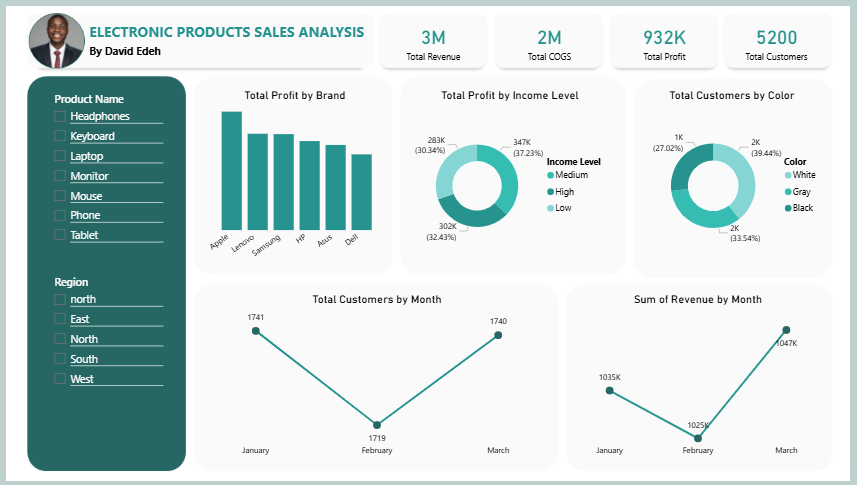

The page's visual inventory and layout, read from the dashboard file:
{"tool":"powerbi","page":{"name":"Page 1","canvas":[1280,720],"ordinal":0},"visuals":[{"type":"columnChart","fields":{"Category":["Products.Brand"],"Y":["Sales.Total Profit"]},"box":[300,124.2,275.8,277.3],"z":0},{"type":"donutChart","fields":{"Category":["Products.Color"],"Y":["Sales.Total Customers"]},"box":[959.1,124.2,281.8,277.3],"z":1000},{"type":"lineChart","fields":{"Category":["Sales.SaleDate.Variation.Date Hierarchy.Month"],"Y":["Sum(Sales.Revenue)"]},"box":[856.1,433.3,384.8,257.6],"z":2000},{"type":"lineChart","fields":{"Category":["Sales.SaleDate.Variation.Date Hierarchy.Month"],"Y":["Sales.Total Customers"]},"box":[300,433.3,524.2,257.6],"z":3000},{"type":"donutChart","fields":{"Category":["Customers.Income Level"],"Y":["Sales.Total Profit"]},"box":[603,124.2,321.2,277.3],"z":4000},{"type":"slicer","fields":{"Values":["Products.Product Name"]},"box":[60.6,124.2,183.3,253],"z":5000},{"type":"slicer","fields":{"Values":["Customers.Region"]},"box":[60.6,401.5,183.3,187.9],"z":6000},{"type":"textbox","box":[121.2,19.7,440.9,47],"z":7000},{"type":"textbox","box":[121.2,51.5,300,36.4],"z":8000},{"type":"card","fields":{"Values":["Sum(Sales.Revenue)"]},"box":[577.3,19.7,140.9,68.2],"z":9000},{"type":"card","fields":{"Values":["Sum(Sales.COGS)"]},"box":[753,19.7,140.9,68.2],"z":10000},{"type":"card","fields":{"Values":["Sales.Total Profit"]},"box":[927.3,19.7,140.9,68.2],"z":11000},{"type":"card","fields":{"Values":["Sales.Total Customers"]},"box":[1097,19.7,140.9,68.2],"z":12000}]}

Visuals, with their boxes in screenshot pixels (x1, y1, x2, y2), scaled from the page's 1280x720 canvas onto the 857x485 screenshot:
columnChart - Products.Brand x Sales.Total Profit: (201,84,386,270)
donutChart - Products.Color x Sales.Total Customers: (642,84,831,270)
lineChart - Sales.SaleDate.Variation.Date Hierarchy.Month x Sum(Sales.Revenue): (573,292,831,465)
lineChart - Sales.SaleDate.Variation.Date Hierarchy.Month x Sales.Total Customers: (201,292,552,465)
donutChart - Customers.Income Level x Sales.Total Profit: (404,84,619,270)
slicer - Products.Product Name: (41,84,163,254)
slicer - Customers.Region: (41,270,163,397)
textbox: (81,13,376,45)
textbox: (81,35,282,59)
card - Sum(Sales.Revenue): (387,13,481,59)
card - Sum(Sales.COGS): (504,13,598,59)
card - Sales.Total Profit: (621,13,715,59)
card - Sales.Total Customers: (734,13,829,59)
